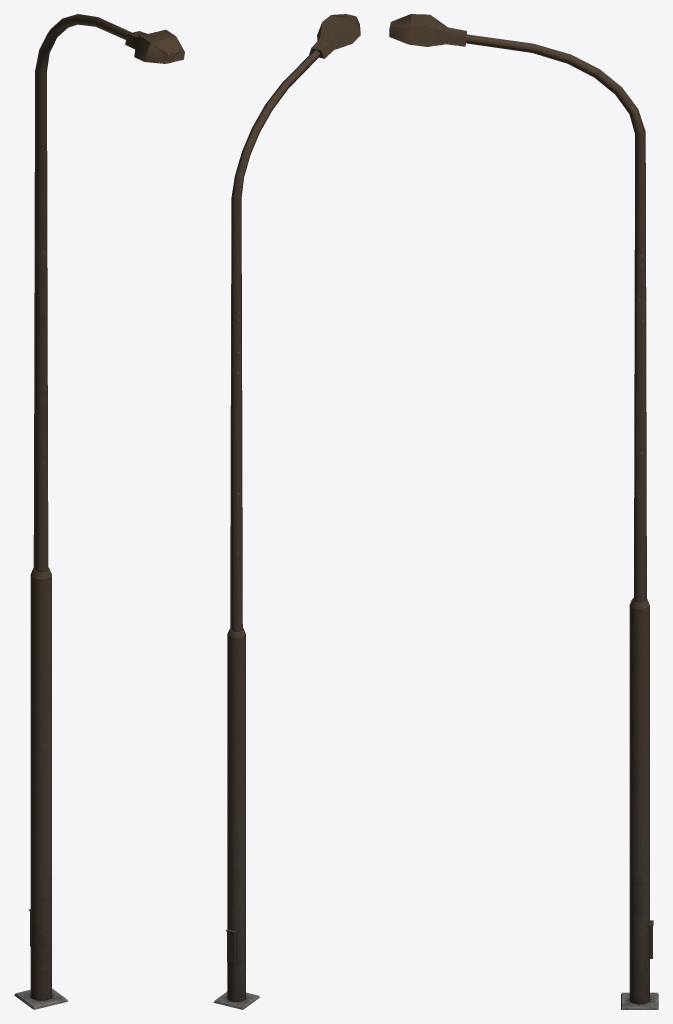
Rendered from jctStreetLightB.fbx.
3 renders of one model, left to right at view 1: azimuth 30°, elevation 25°; view 2: azimuth 150°, elevation 25°; view 3: azimuth 270°, elevation 25°, orthographic. The views are drawn at different scales.
Visible parts, largest first — view 1: jctStreetLightB; view 2: jctStreetLightB; view 3: jctStreetLightB.
Part boxes in pixels (bbox=[...]): jctStreetLightB: bbox=[14, 14, 184, 1009]; jctStreetLightB: bbox=[213, 14, 360, 1009]; jctStreetLightB: bbox=[389, 14, 658, 1009].
Bounding box in the file's own units: 40 × 988 × 245.
